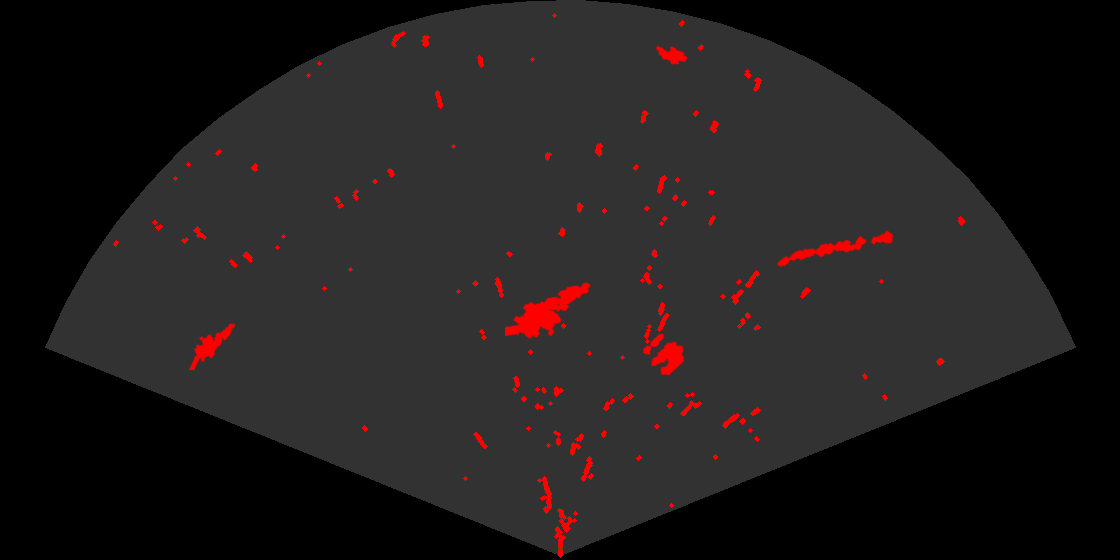AUV: (654, 44, 689, 67)
ball: (641, 332, 686, 377)
chain: (775, 228, 896, 268)
frogman: (505, 281, 592, 341), (187, 314, 239, 370)
